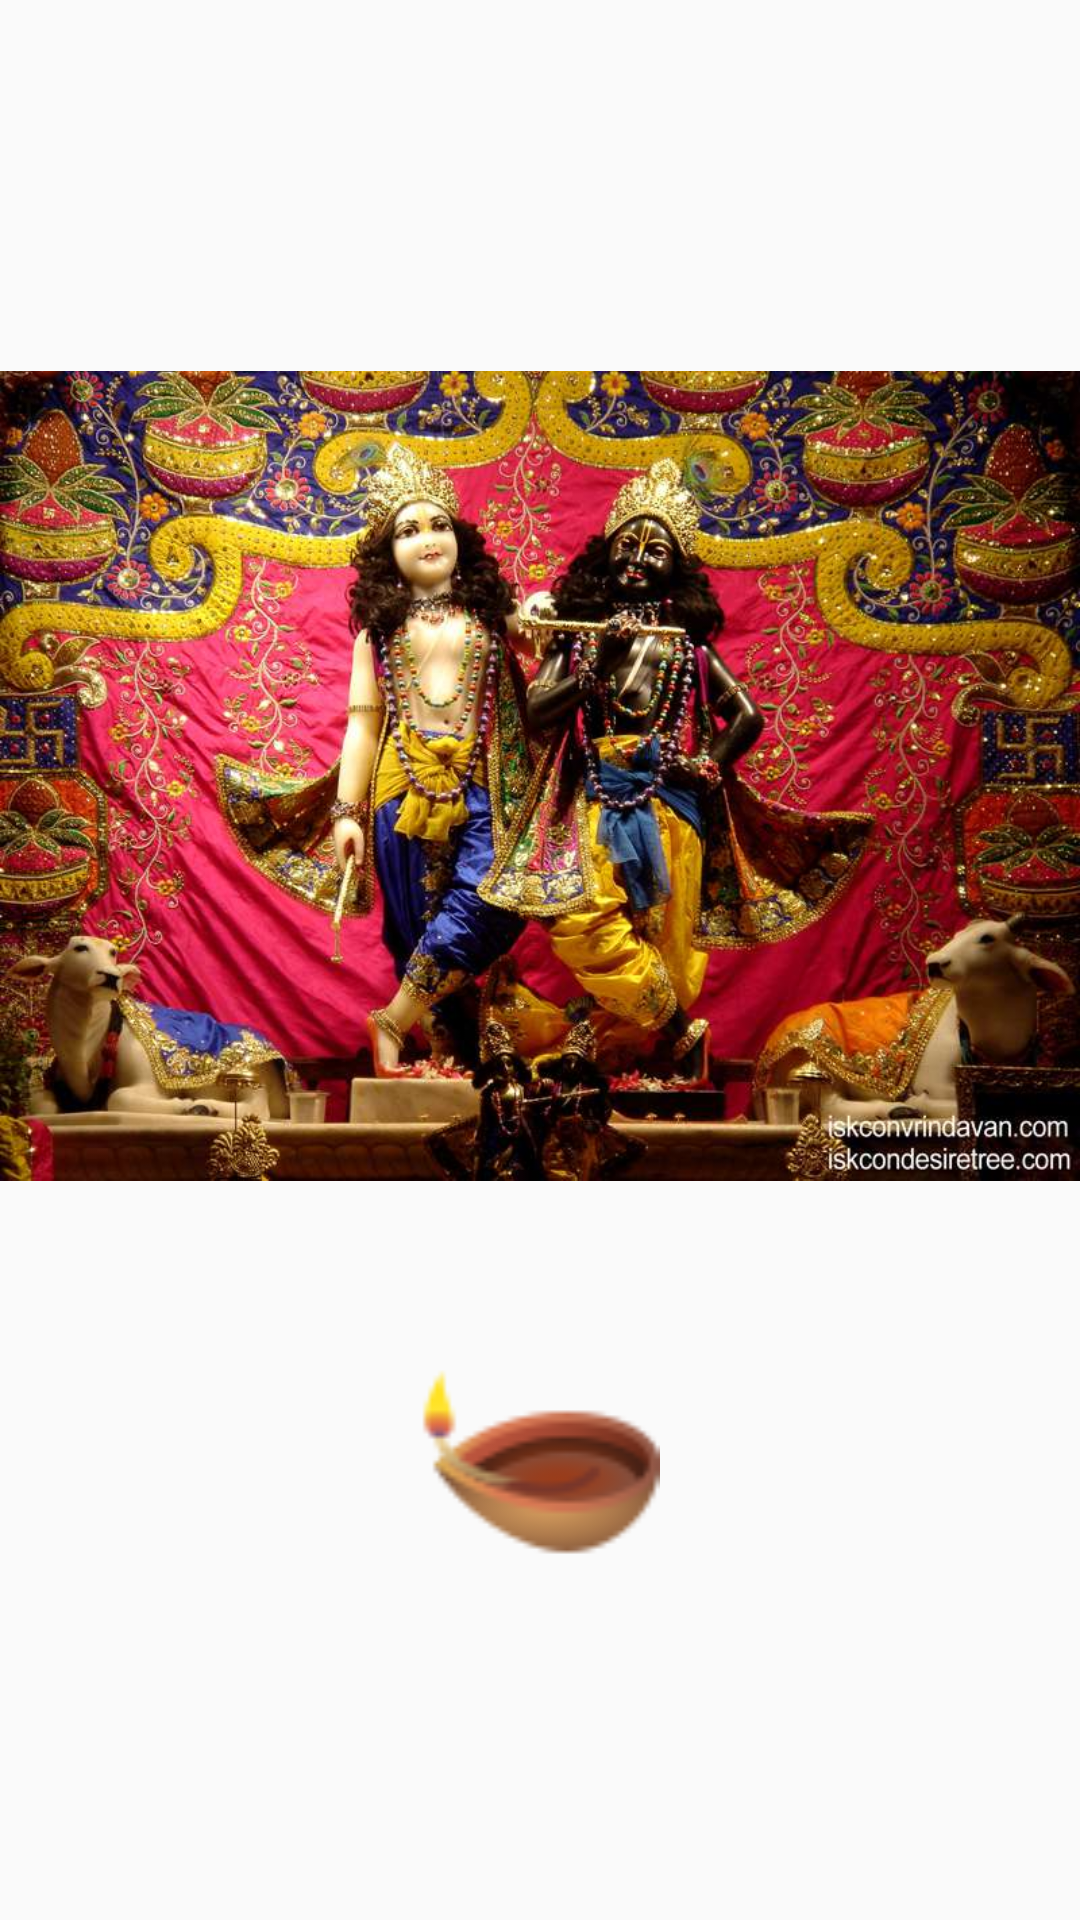

Where icons sit on this 1080x1920 app screen, as box=[x1, y1, x2, y2]:
diyaicon: box=[423, 1372, 660, 1554]
